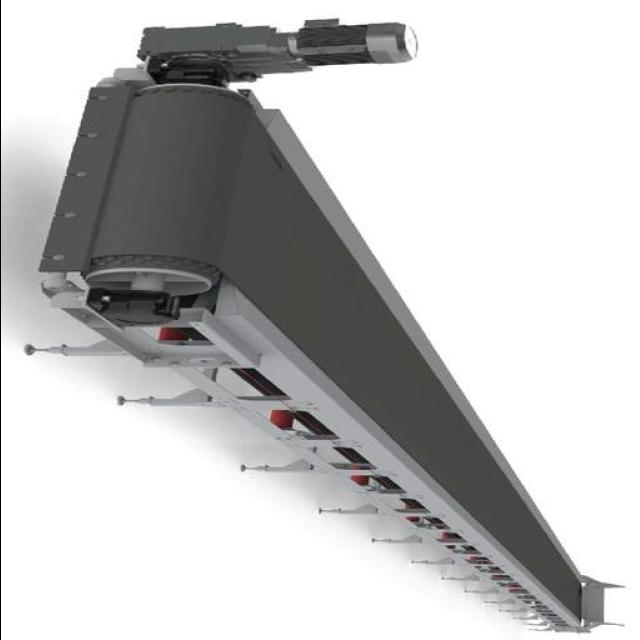conveyor: (84, 86, 586, 624)
